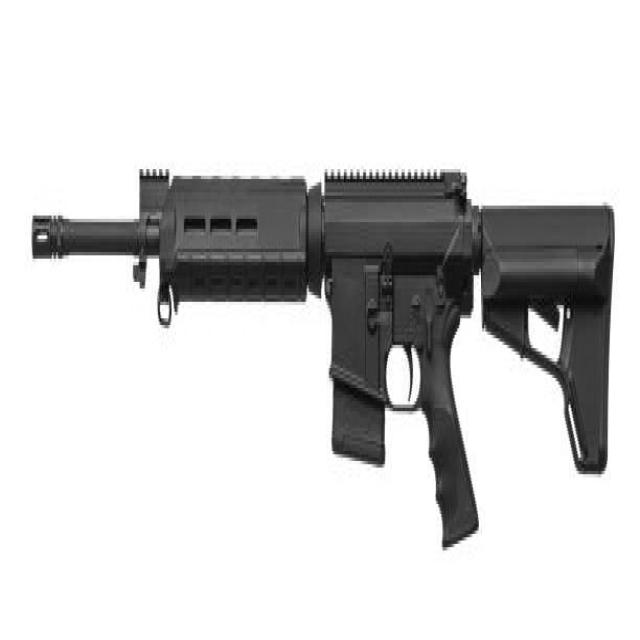rifle: (28, 137, 623, 586)
